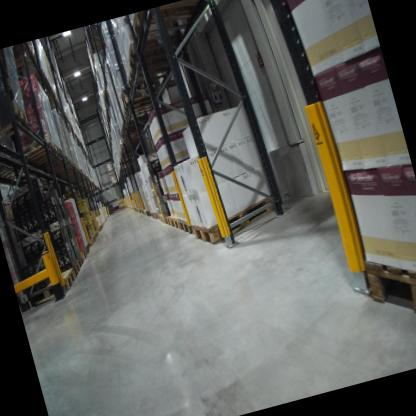pallet: (189, 186, 281, 247), (361, 245, 416, 332), (122, 26, 190, 73), (128, 0, 206, 40), (19, 267, 80, 310), (0, 97, 35, 148), (123, 56, 174, 87), (21, 144, 66, 174), (20, 133, 57, 162), (121, 99, 162, 122), (8, 42, 39, 70), (121, 86, 157, 110), (176, 214, 194, 238), (169, 210, 183, 232), (69, 259, 83, 279), (74, 253, 85, 268), (164, 214, 172, 228), (79, 249, 88, 260), (158, 210, 165, 223), (83, 245, 91, 256), (150, 210, 157, 219), (119, 204, 127, 211), (155, 211, 161, 220), (111, 180, 118, 186), (114, 207, 121, 213), (107, 210, 115, 215)
